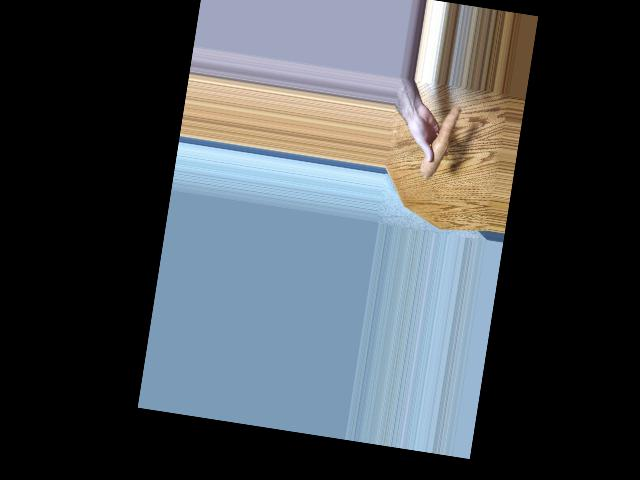sweet_potato: (423, 98, 456, 180)
